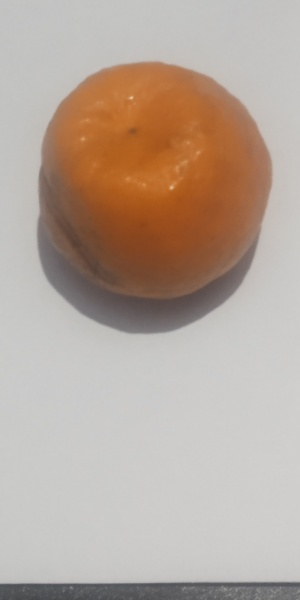BAD: (37, 56, 275, 304)
